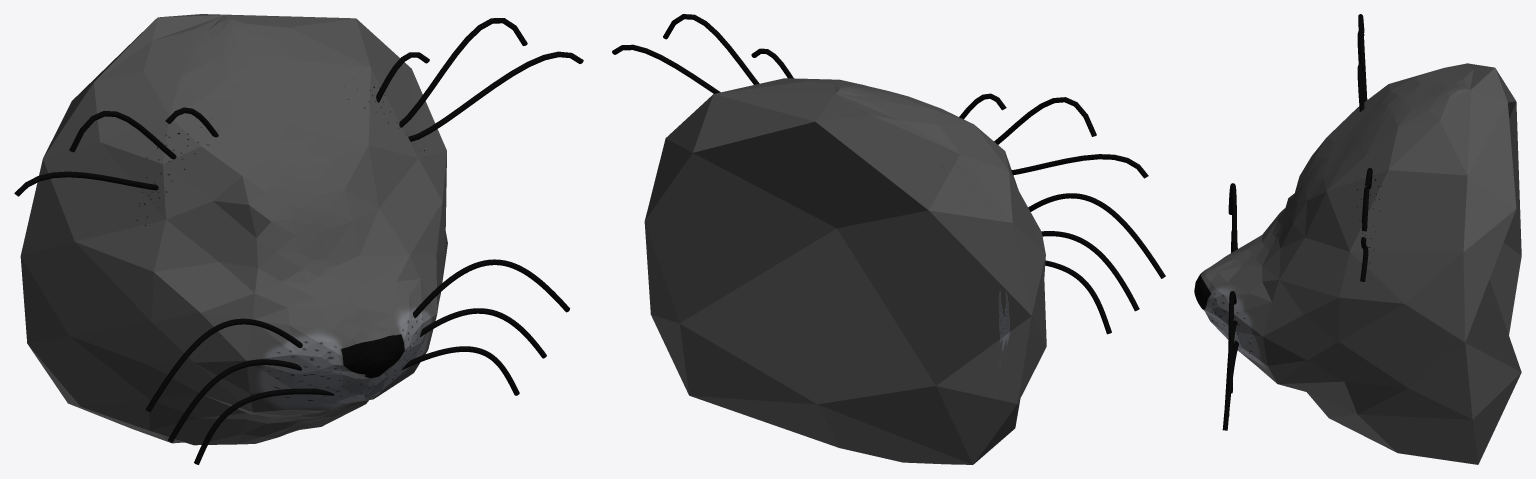
The model's file is Квадраты.glb.
The picture shows the model from 3 angles, left to right: view 1: azimuth 30°, elevation 25°; view 2: azimuth 150°, elevation 25°; view 3: azimuth 270°, elevation 25°; orthographic projection. The views are drawn at different scales.
Parts seen in each view (by area): view 1: Сфера.001, КриваяБезье.003, ТраекторияNurbs.005, ТраекторияNurbs, КриваяБезье.004, ТраекторияNurbs.003, ТраекторияNurbs.004, КриваяБезье.002, ТраекторияNurbs.001, КриваяБезье.001, ТраекторияNurbs.002; view 2: Сфера.001, ТраекторияNurbs.005, КриваяБезье.002, КриваяБезье.001, ТраекторияNurbs.004, КриваяБезье.004, КриваяБезье.003, ТраекторияNurbs.003; view 3: Сфера.001, ТраекторияNurbs, ТраекторияNurbs.005, КриваяБезье.001.
Part boxes in pixels (bbox=[...]): Сфера.001: bbox=[20, 14, 447, 445]; КриваяБезье.003: bbox=[408, 51, 583, 141]; ТраекторияNurbs.005: bbox=[145, 318, 302, 412]; ТраекторияNurbs: bbox=[412, 259, 569, 318]; КриваяБезье.004: bbox=[399, 18, 527, 127]; ТраекторияNurbs.003: bbox=[194, 388, 334, 464]; ТраекторияNurbs.004: bbox=[168, 359, 301, 442]; КриваяБезье.002: bbox=[14, 171, 158, 196]; ТраекторияNurbs.001: bbox=[420, 308, 546, 358]; КриваяБезье.001: bbox=[69, 111, 176, 159]; ТраекторияNurbs.002: bbox=[401, 346, 519, 395]; Сфера.001: bbox=[644, 78, 1046, 464]; ТраекторияNurbs.005: bbox=[1028, 193, 1165, 278]; КриваяБезье.002: bbox=[1011, 154, 1148, 178]; КриваяБезье.001: bbox=[994, 97, 1096, 144]; ТраекторияNurbs.004: bbox=[1041, 231, 1139, 311]; КриваяБезье.004: bbox=[663, 14, 759, 84]; КриваяБезье.003: bbox=[612, 44, 720, 93]; ТраекторияNurbs.003: bbox=[1045, 260, 1111, 334]; Сфера.001: bbox=[1194, 63, 1521, 464]; ТраекторияNurbs: bbox=[1227, 291, 1236, 393]; ТраекторияNurbs.005: bbox=[1228, 183, 1237, 251]; КриваяБезье.001: bbox=[1358, 14, 1367, 102].
Size of the model in its own units: 2.29 by 1.49 by 1.3.
3 materials, 2 textured.
